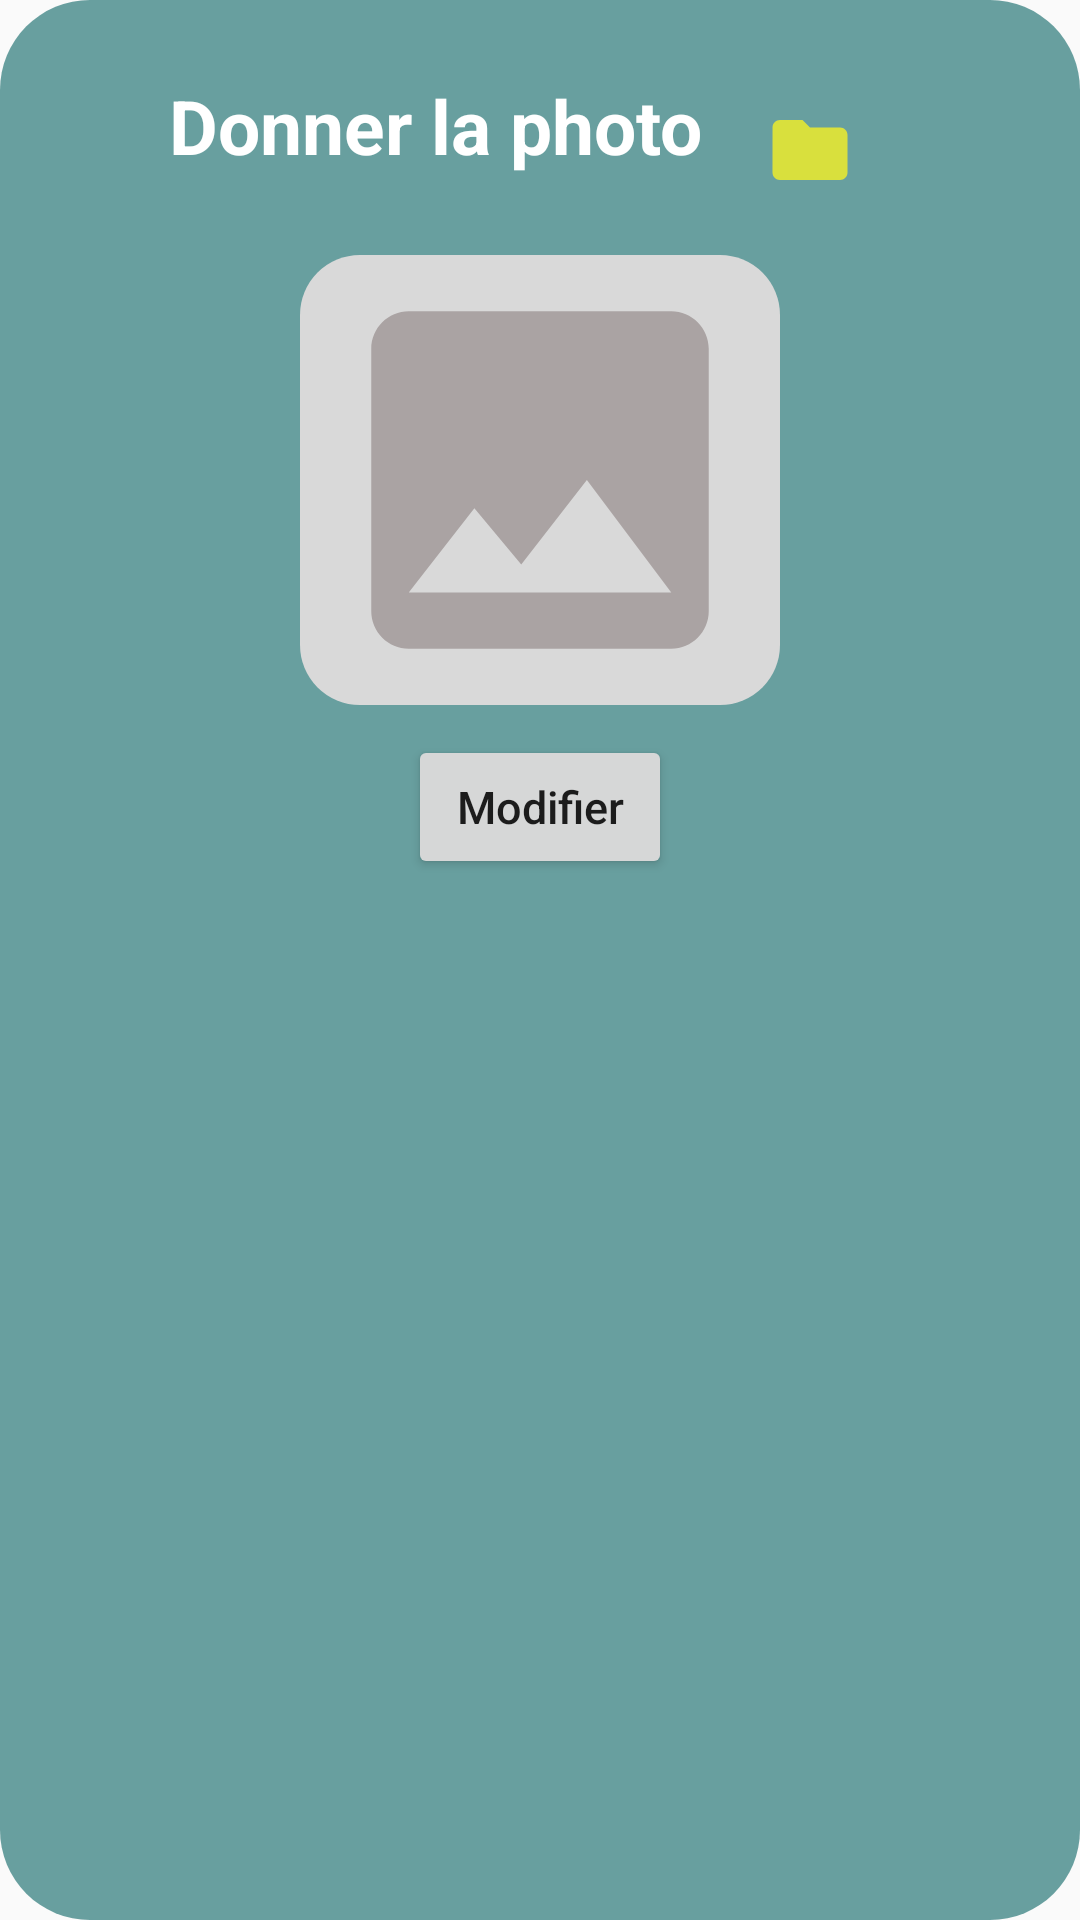

Icon click points for this 1080px×1920px phone screenshot, format (x,y):
folder: (810,150)
